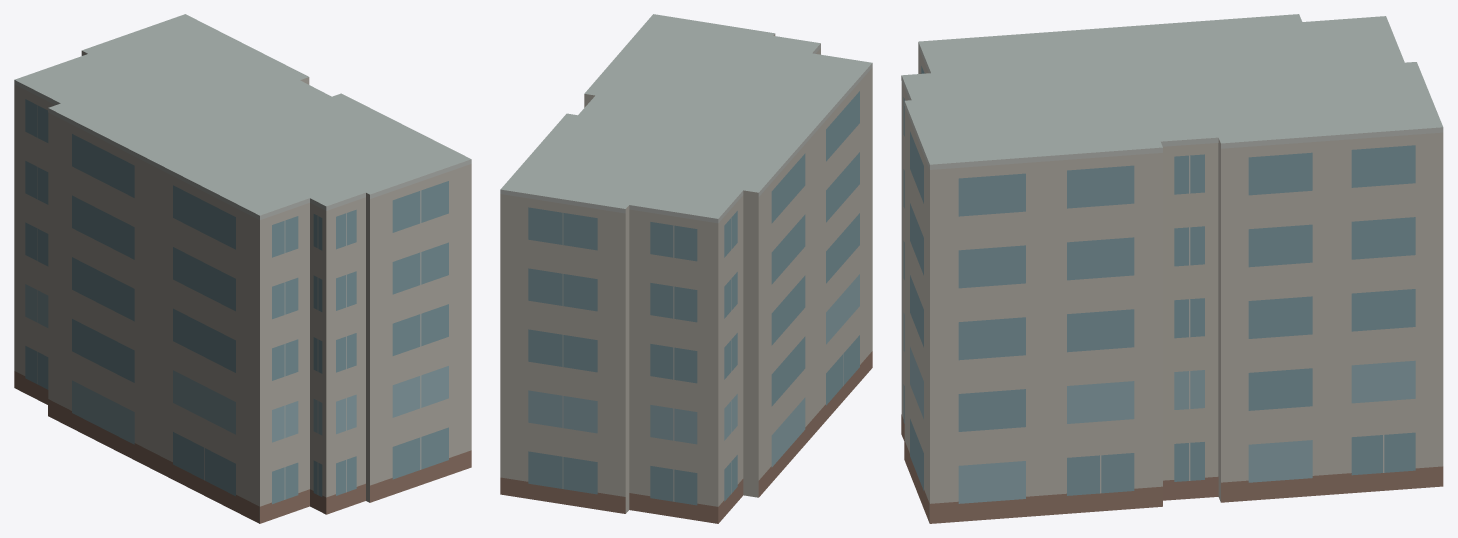
The model's file is survey-upis-32724596.glb.
3 views of the same model, side by side, from view 1: azimuth 30°, elevation 25°; view 2: azimuth 150°, elevation 25°; view 3: azimuth 270°, elevation 25° (orthographic). The views are drawn at different scales.
Visible parts, largest first — view 1: survey-upis-32724596.tmp; view 2: survey-upis-32724596.tmp; view 3: survey-upis-32724596.tmp.
Boxes of the visible parts, <box> form: survey-upis-32724596.tmp: <box>14,14,471,523</box>; survey-upis-32724596.tmp: <box>500,14,872,523</box>; survey-upis-32724596.tmp: <box>901,14,1443,523</box>.
Size of the model in its own units: 14.9 by 16.55 by 22.64.
